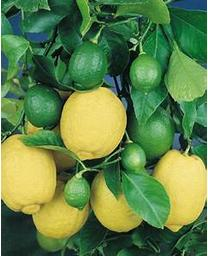lemon: (60, 84, 127, 159), (2, 134, 59, 215), (153, 149, 207, 233), (23, 83, 65, 130), (71, 41, 106, 91), (130, 53, 162, 95), (65, 174, 89, 211), (123, 144, 147, 174)
